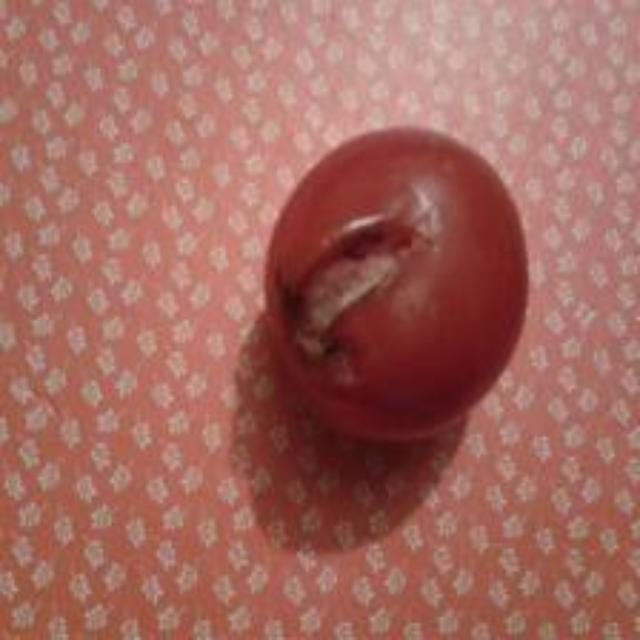defect: (261, 121, 530, 446)
